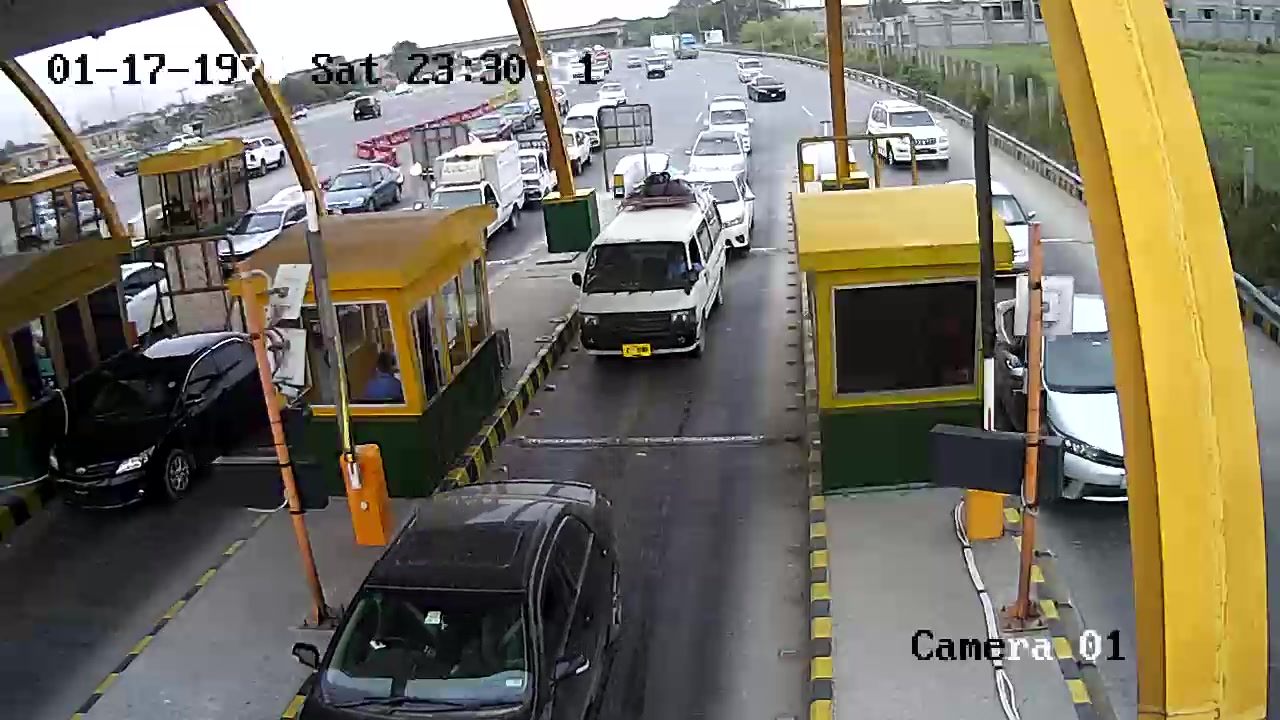F3: (565, 166, 735, 368)
